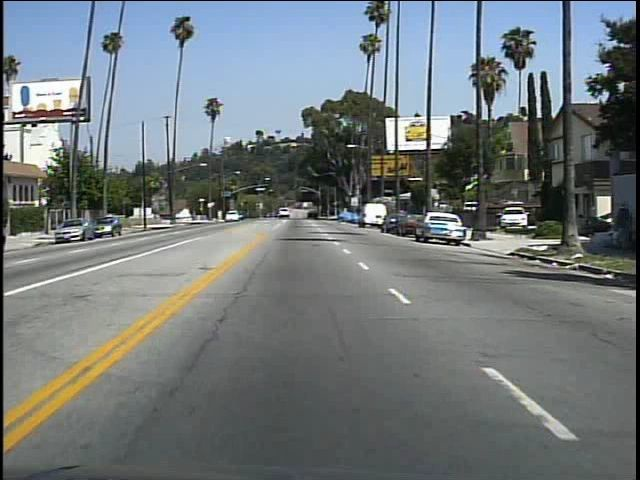person: (625, 201, 627, 258)
